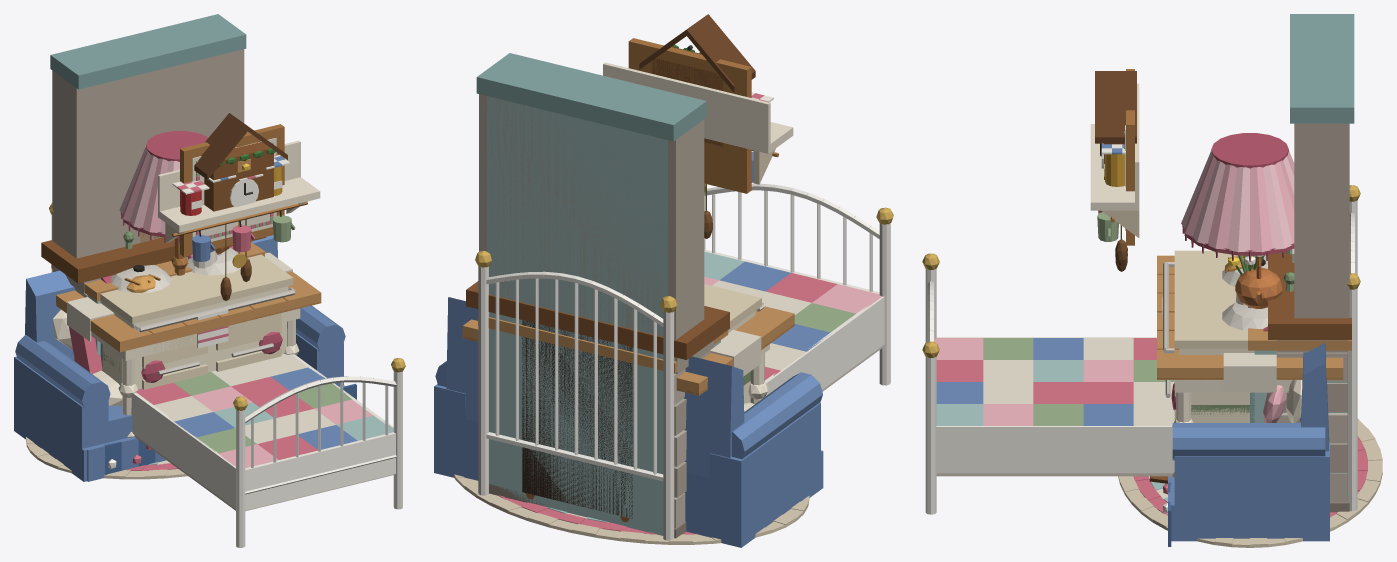
File: furniture_cottage.glb
3 views of the same model, side by side, from view 1: azimuth 30°, elevation 25°; view 2: azimuth 150°, elevation 25°; view 3: azimuth 270°, elevation 25° (orthographic). The views are drawn at different scales.
Visible parts, largest first — view 1: cottage_iron_bed_main, cottage_fireplace_main, cottage_loveseat_main, cottage_range_stove_main, cottage_farmhouse_table_main, cottage_welsh_dresser_main, cottage_wall_shelf_main, cottage_cuckoo_clock_main, cottage_standard_lamp_main, cottage_sampler_main, cottage_rag_rug_main, cottage_armchair_main; view 2: cottage_welsh_dresser_main, cottage_fireplace_main, cottage_iron_bed_main, cottage_loveseat_main, cottage_wall_shelf_main, cottage_sampler_main, cottage_rag_rug_main, cottage_farmhouse_table_main, cottage_cuckoo_clock_main, cottage_range_stove_main; view 3: cottage_iron_bed_main, cottage_loveseat_main, cottage_fireplace_main, cottage_standard_lamp_main, cottage_range_stove_main, cottage_welsh_dresser_main, cottage_farmhouse_table_main, cottage_rag_rug_main, cottage_wall_shelf_main, cottage_cuckoo_clock_main, cottage_sampler_main.
Part boxes in pixels (x1,y1,x2,y2): cottage_iron_bed_main: (49,203,405,547); cottage_fireplace_main: (41,49,266,360); cottage_loveseat_main: (14,235,356,481); cottage_range_stove_main: (100,245,295,389); cottage_farmhouse_table_main: (56,246,321,437); cottage_welsh_dresser_main: (50,14,264,370); cottage_wall_shelf_main: (158,140,320,261); cottage_cuckoo_clock_main: (194,113,287,300); cottage_standard_lamp_main: (119,131,208,275); cottage_sampler_main: (180,124,284,256); cottage_rag_rug_main: (26,437,187,479); cottage_armchair_main: (101,246,282,382); cottage_welsh_dresser_main: (476,53,728,535); cottage_fireplace_main: (466,94,729,538); cottage_iron_bed_main: (475,183,893,540); cottage_loveseat_main: (434,297,823,547); cottage_wall_shelf_main: (603,62,793,184); cottage_sampler_main: (628,38,751,193); cottage_rag_rug_main: (454,474,809,544); cottage_farmhouse_table_main: (462,306,794,404); cottage_cuckoo_clock_main: (639,14,755,238); cottage_range_stove_main: (704,284,764,403); cottage_iron_bed_main: (922,185,1360,514); cottage_loveseat_main: (1163,343,1329,546); cottage_fireplace_main: (1268,123,1351,512); cottage_standard_lamp_main: (1181,133,1294,269); cottage_range_stove_main: (1162,250,1282,422); cottage_welsh_dresser_main: (1248,14,1354,473); cottage_farmhouse_table_main: (1157,255,1343,478); cottage_rag_rug_main: (1118,418,1382,547); cottage_wall_shelf_main: (1090,83,1139,241); cottage_cuckoo_clock_main: (1095,71,1136,271); cottage_sampler_main: (1124,69,1134,245).
Size of the model in its own units: 1.7 by 2.05 by 2.08.
